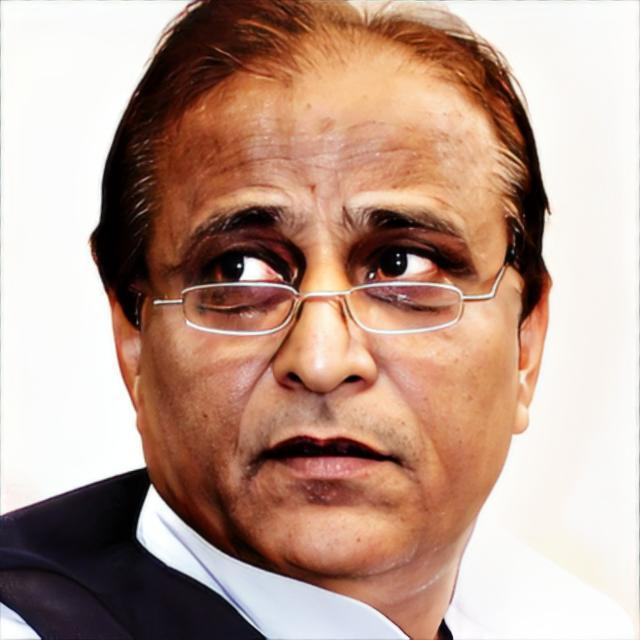sad: (140, 39, 519, 578)
